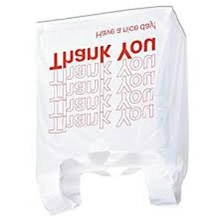plastic_bag: (20, 1, 202, 220)
